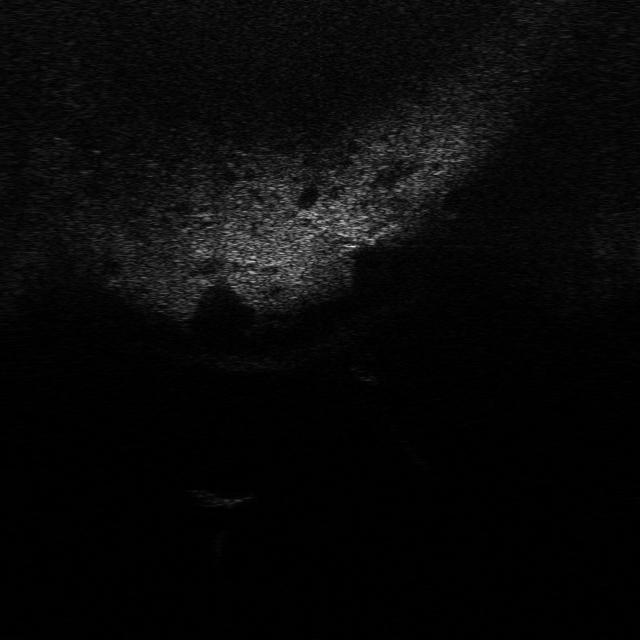ball: (344, 349, 398, 383)
cube: (180, 483, 256, 512)
